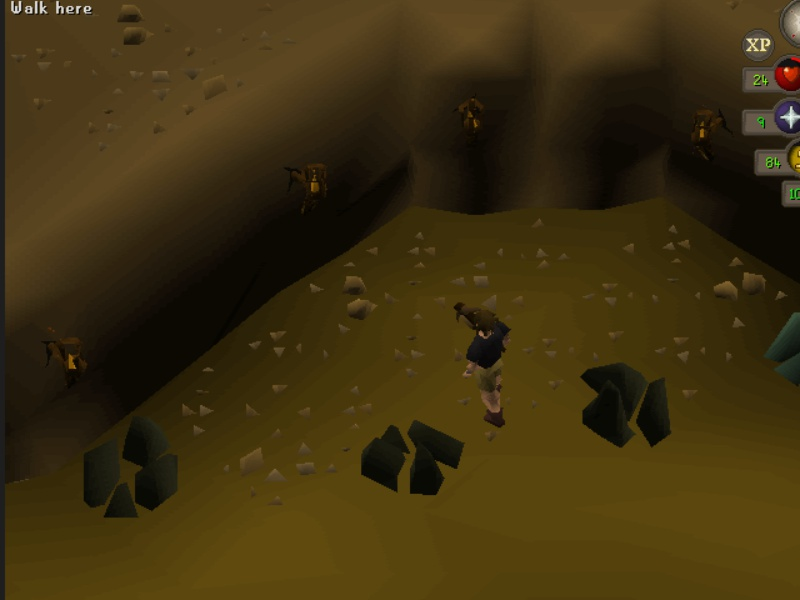adamant: (761, 304, 800, 389)
coal: (76, 411, 190, 524), (574, 351, 677, 456), (358, 412, 468, 502)
